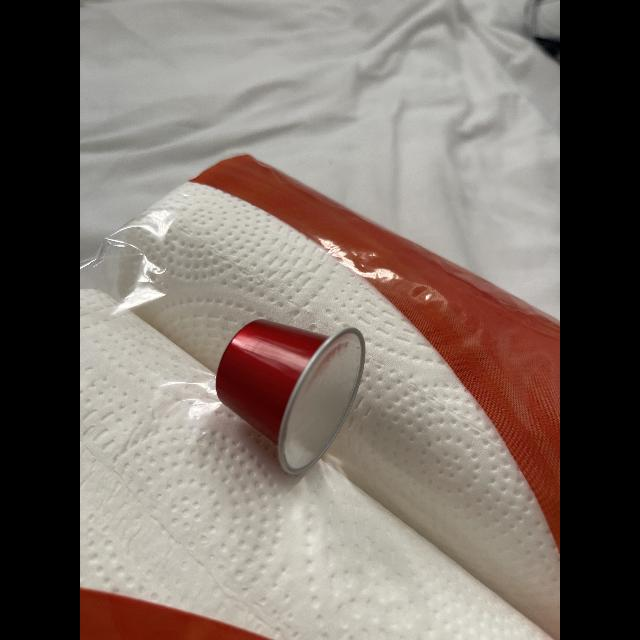intact_capsule: (210, 308, 382, 480)
